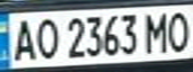2: (63, 13, 87, 60)
3: (81, 12, 106, 59), (118, 10, 142, 56)
6: (103, 11, 124, 57)
A: (6, 16, 39, 62)
M: (139, 8, 172, 54)
O: (30, 15, 60, 61), (163, 8, 193, 53)
